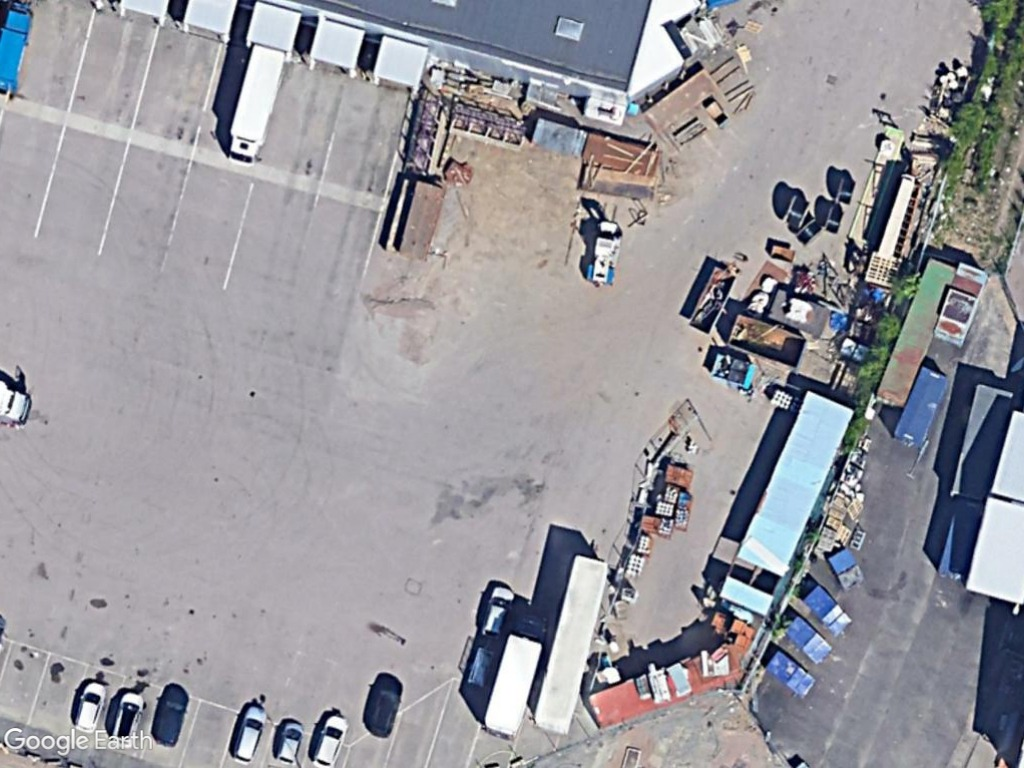car: (470, 577, 519, 646), (147, 679, 193, 750), (359, 670, 405, 740), (225, 697, 271, 766), (70, 676, 114, 740), (305, 707, 351, 768), (271, 712, 312, 768)
truck: (217, 38, 292, 170)
